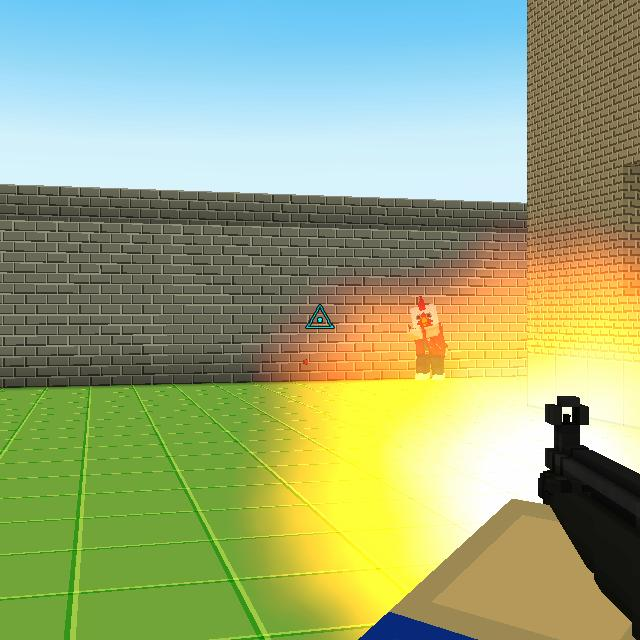enemy: (408, 292, 448, 384)
